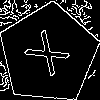X: (23, 29, 79, 84)
